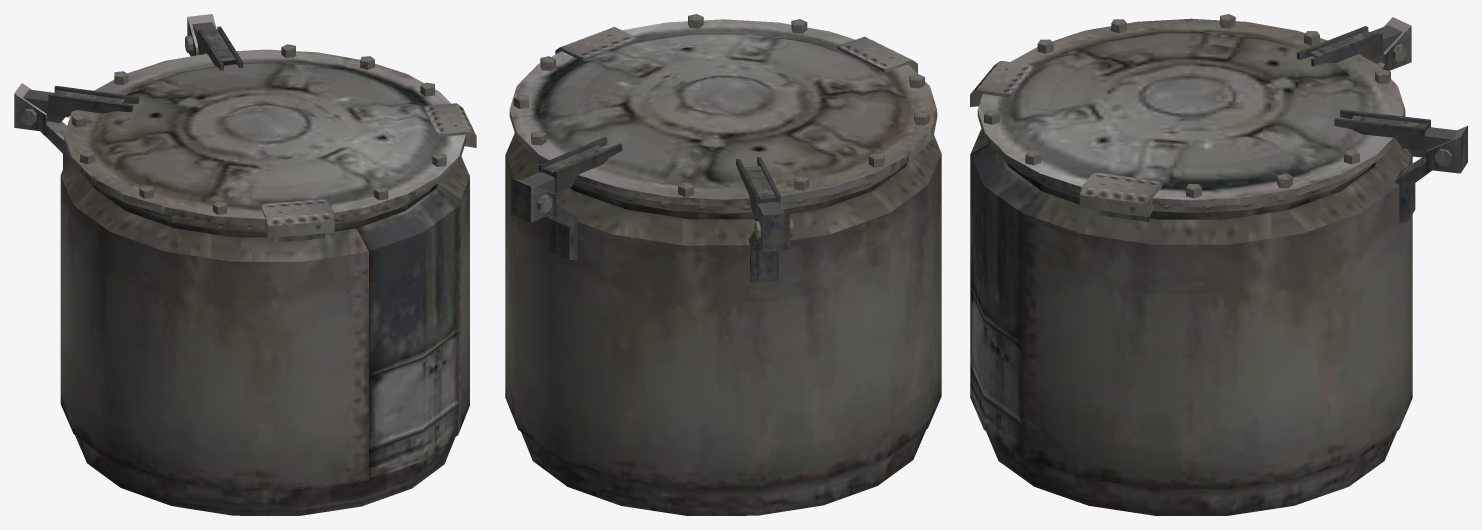
The model's file is laundry_washer001a.glb.
The picture shows the model from 3 angles, left to right: view 1: azimuth 30°, elevation 25°; view 2: azimuth 150°, elevation 25°; view 3: azimuth 270°, elevation 25°; orthographic projection. The views are drawn at different scales.
Parts seen in each view (by area): view 1: 0_laundry_machines004; view 2: 0_laundry_machines004; view 3: 0_laundry_machines004.
Boxes of the visible parts, <box> form: 0_laundry_machines004: <box>14,14,476,515</box>; 0_laundry_machines004: <box>505,14,941,515</box>; 0_laundry_machines004: <box>970,14,1467,515</box>.
Size of the model in its own units: 2.02 by 1.74 by 2.31.
1 material, 1 textured.
